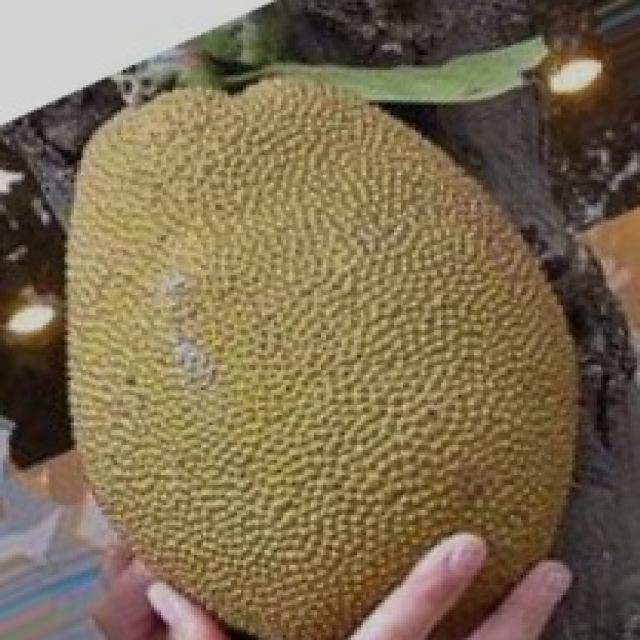Fruit: (18, 25, 450, 417), (270, 242, 622, 640)
